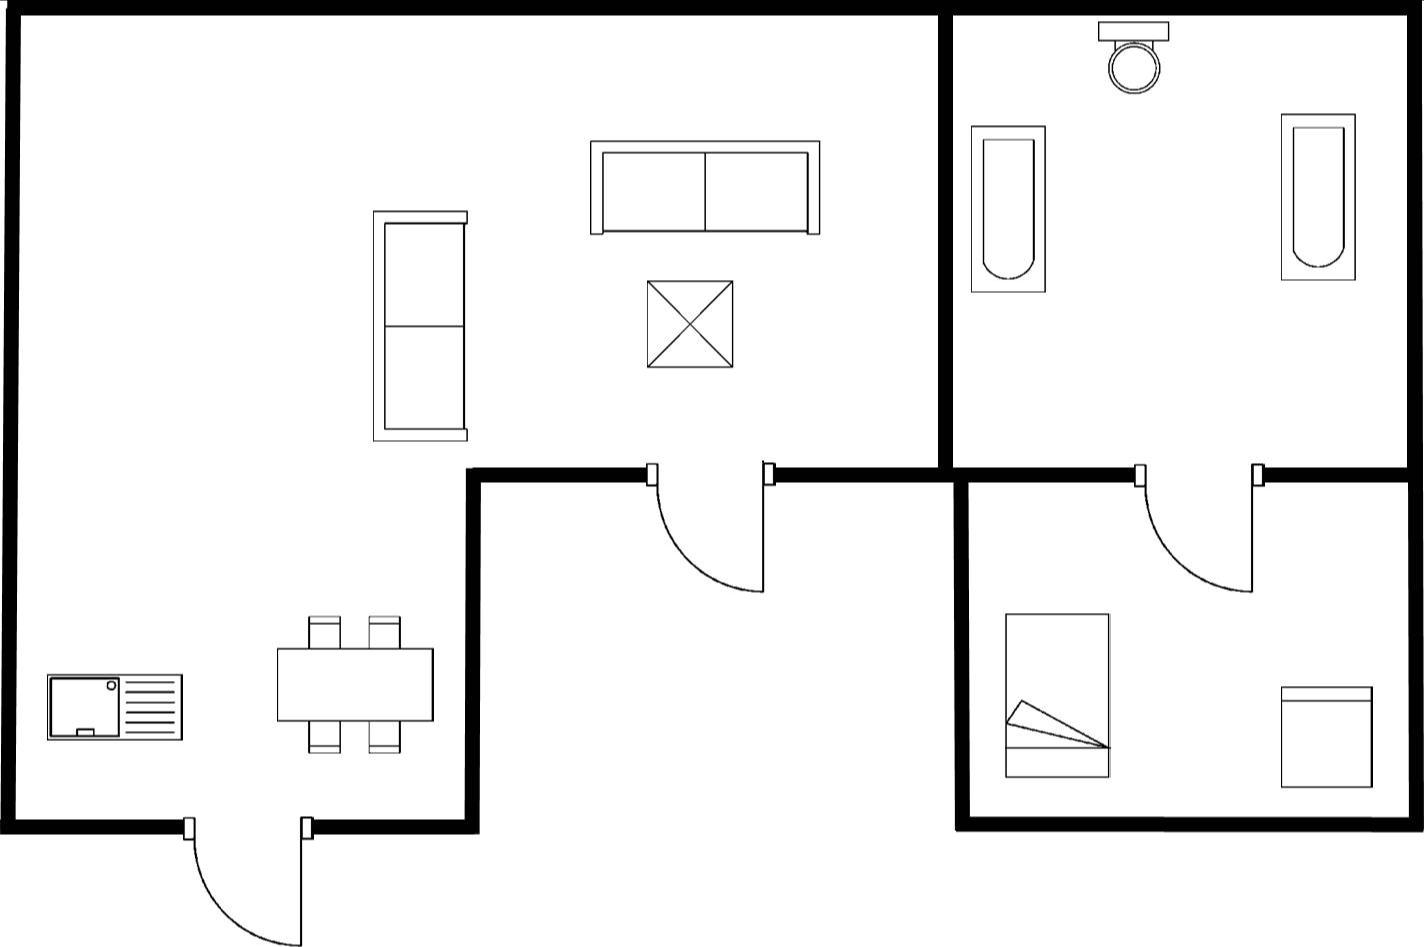bed: (999, 605, 1118, 783)
dining_table: (269, 610, 441, 760)
sink: (40, 665, 192, 747)
sofa: (584, 134, 829, 242), (369, 205, 476, 449)
toilet: (1094, 16, 1176, 100)
tub: (1273, 105, 1363, 287), (964, 120, 1054, 297)
